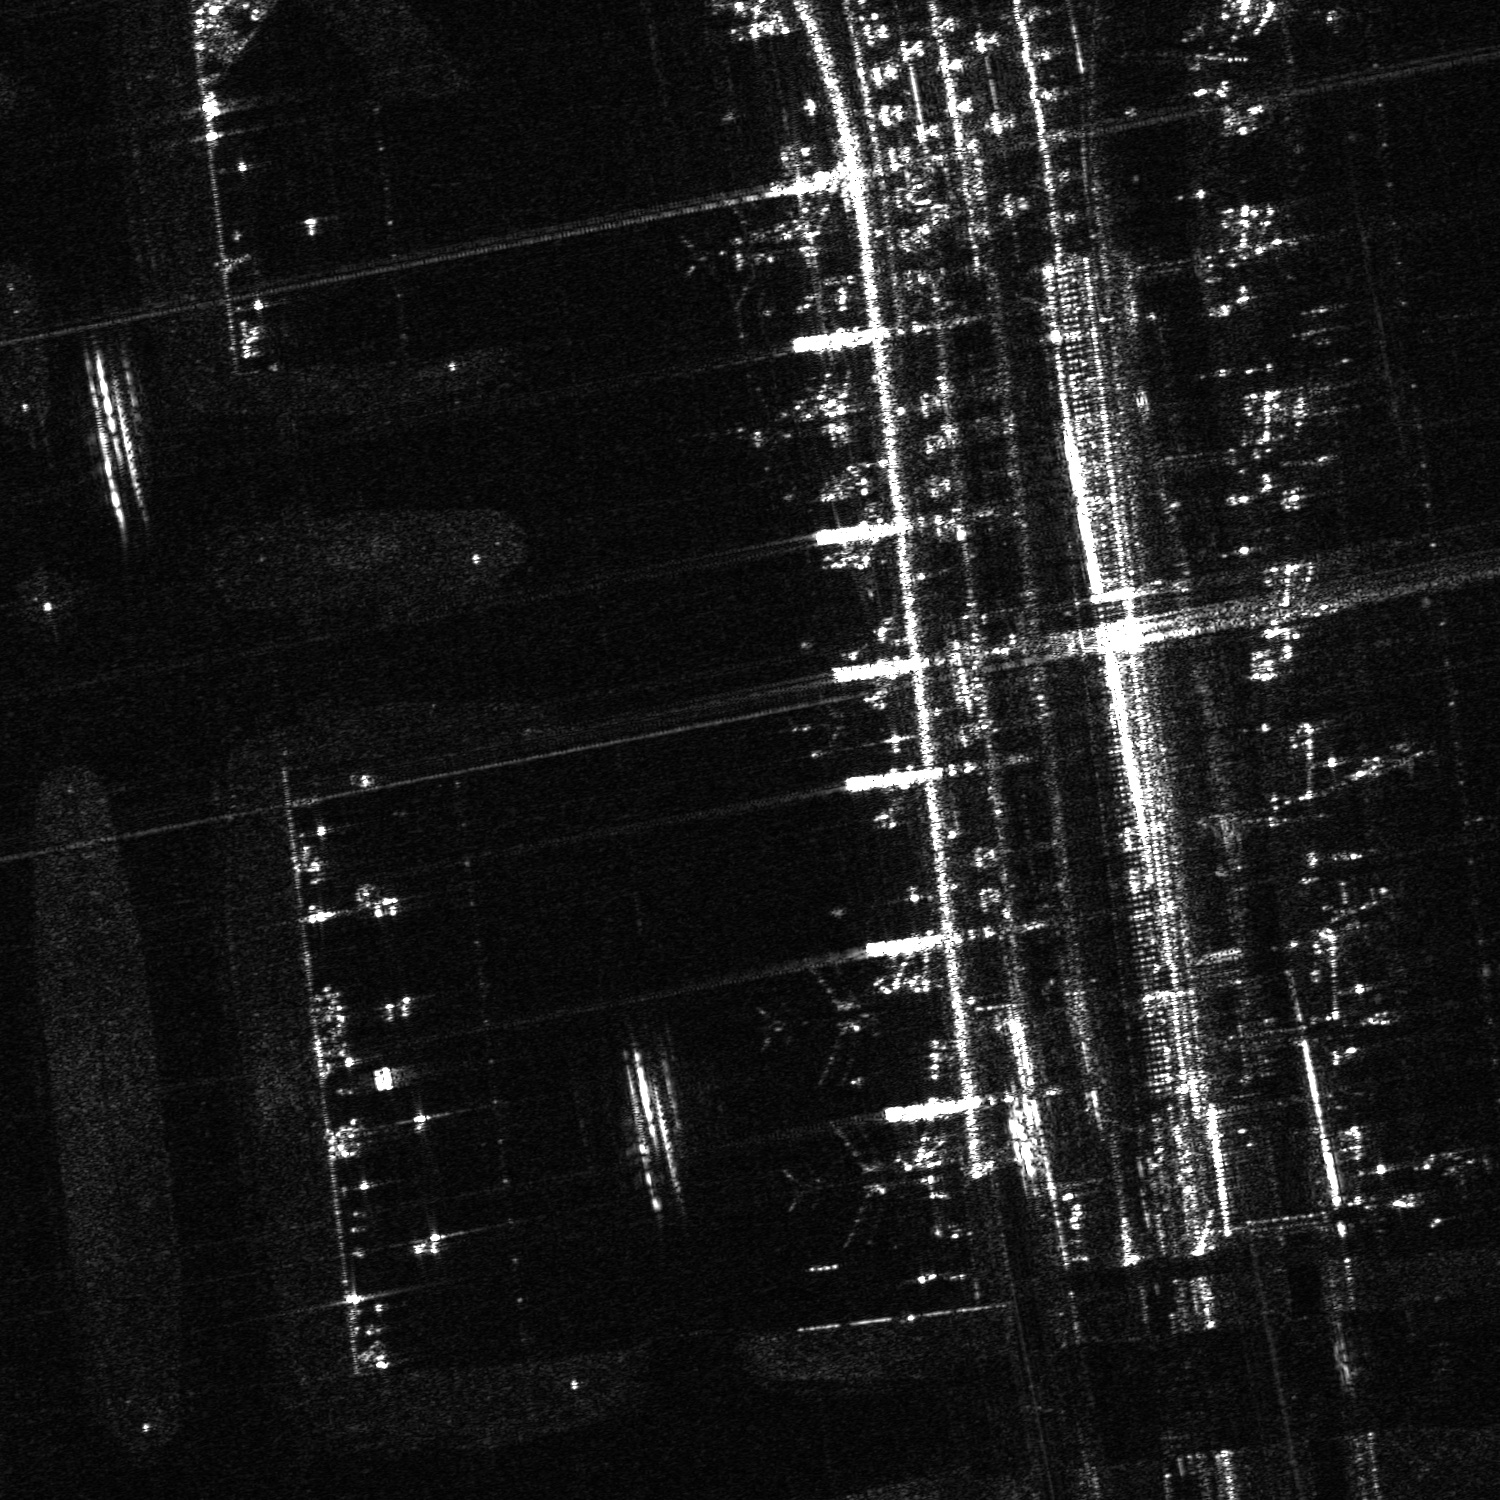A220: (786, 694, 861, 750)
A330: (775, 1122, 920, 1250)
Boeing787: (753, 959, 885, 1087)
other: (680, 191, 793, 313), (712, 376, 802, 475)
